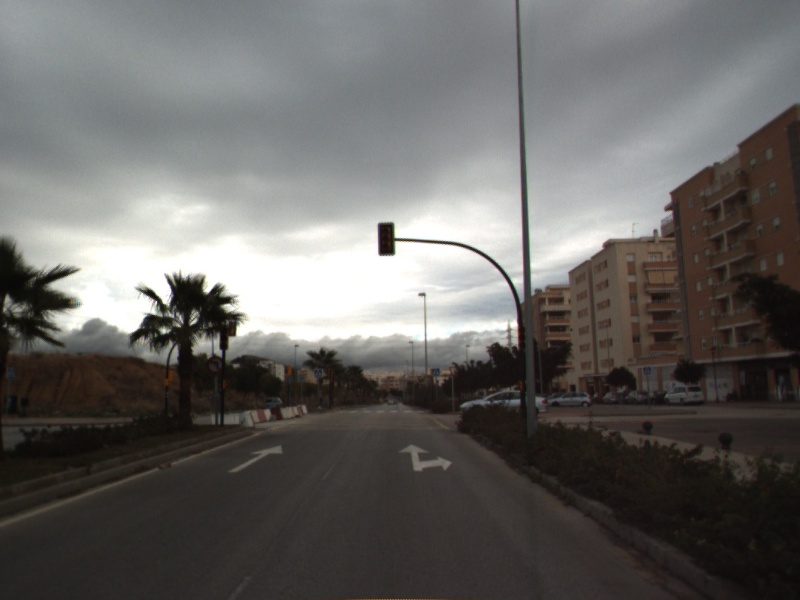STRAIGHT: (226, 443, 284, 474)
STRAIGHT_RIGHT: (396, 442, 454, 474)
